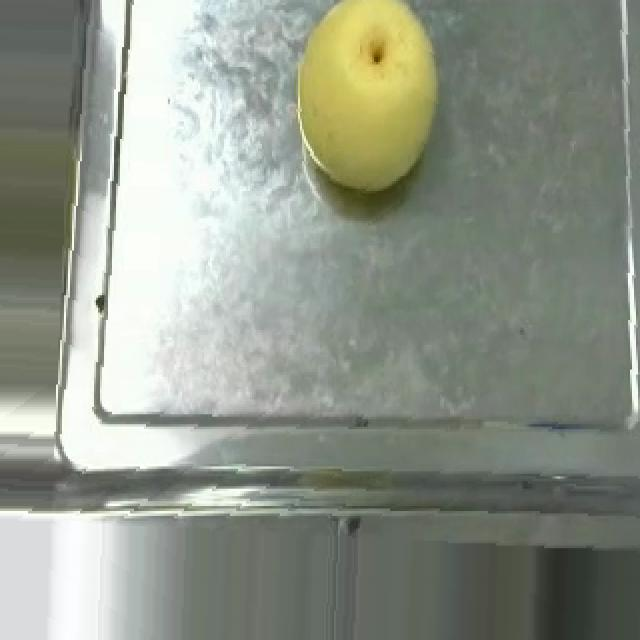Fruit: (282, 0, 450, 198)
